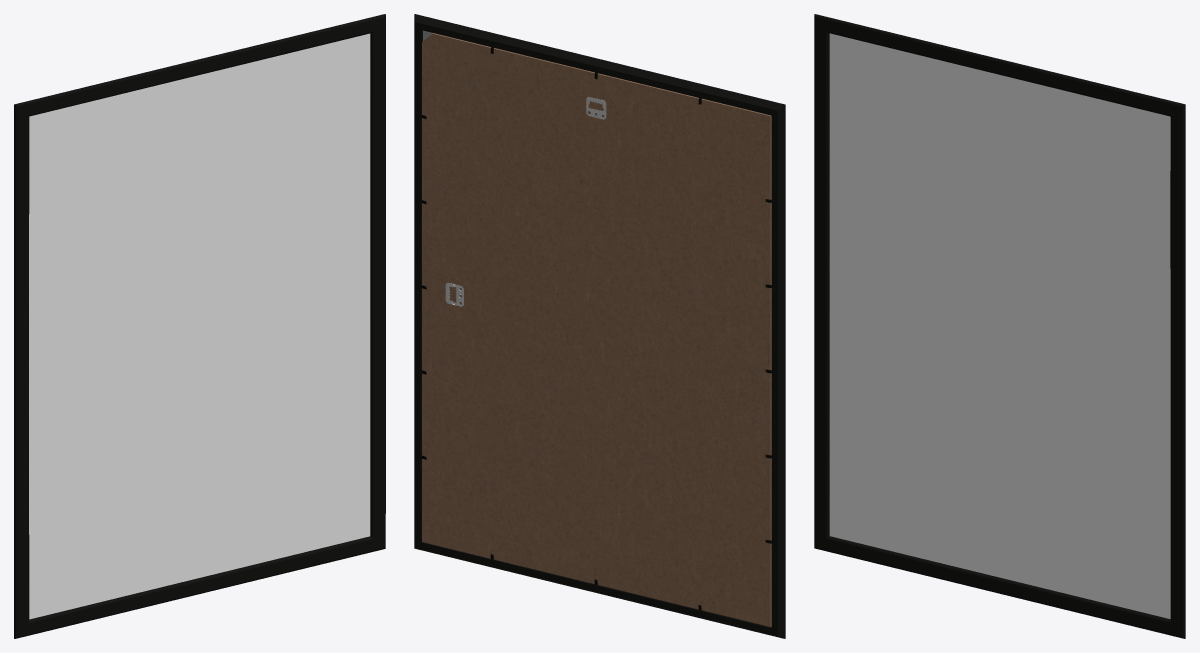
The model's file is fiskbo_ramka_50297961.glb.
3 renders of one model, left to right at view 1: azimuth 30°, elevation 25°; view 2: azimuth 150°, elevation 25°; view 3: azimuth 330°, elevation 25°, orthographic.
Parts seen in each view (by area): view 1: fiskbo_ramka_50297961; view 2: fiskbo_ramka_50297961; view 3: fiskbo_ramka_50297961.
Part boxes in pixels (box(x1,y1,x2,y2)): fiskbo_ramka_50297961: box(14, 14, 385, 638); fiskbo_ramka_50297961: box(414, 14, 785, 638); fiskbo_ramka_50297961: box(814, 14, 1185, 638).
Size of the model in its own units: 0.532 by 0.732 by 0.0131.
Materials: 2 (2 with a texture image).
